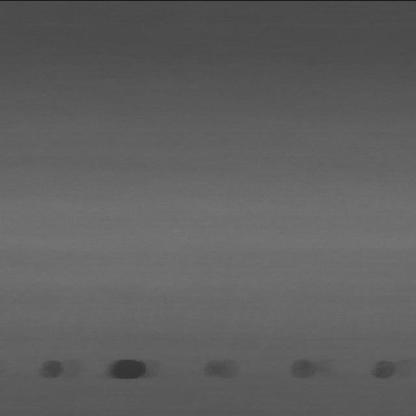oil_spot: (97, 351, 160, 382), (26, 351, 75, 381), (282, 352, 321, 382), (199, 353, 238, 379), (362, 355, 398, 379)
